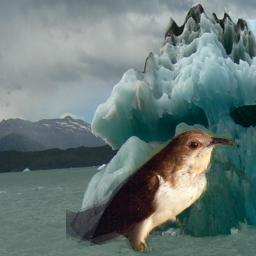Cuckoo: (66, 129, 235, 253)
